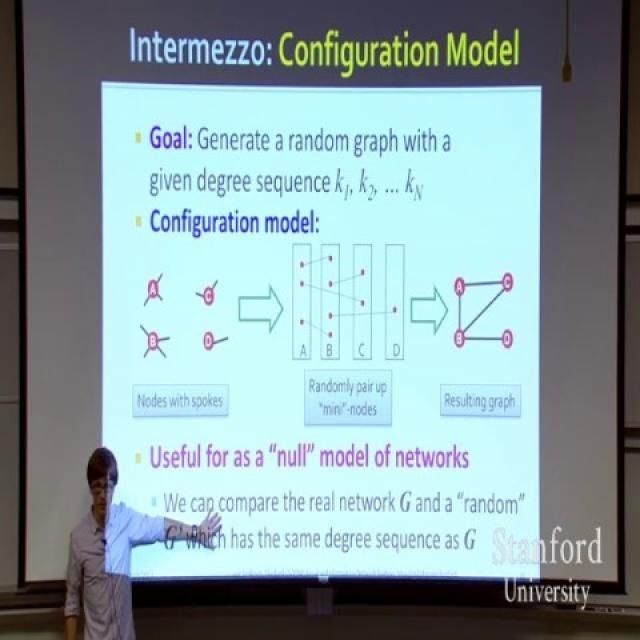Instructor: (53, 445, 142, 640)
Slide: (96, 4, 544, 580)
